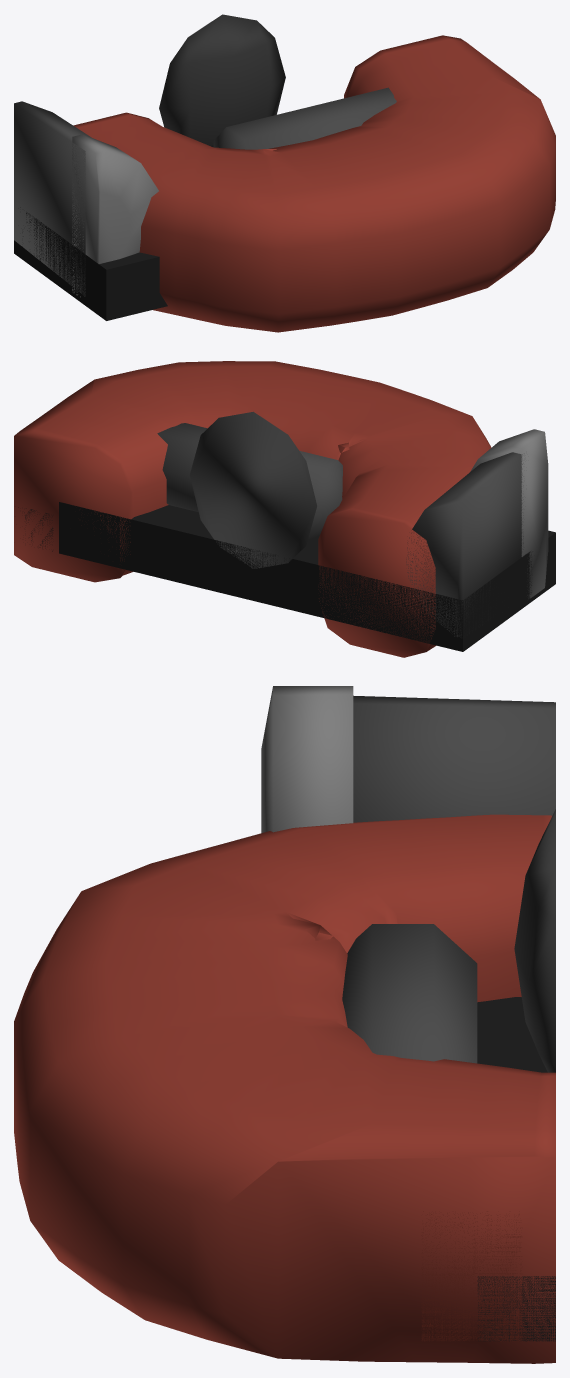
Rendered from newsht-45.glb.
3 renders of one model, top to bottom at view 1: azimuth 30°, elevation 25°; view 2: azimuth 150°, elevation 25°; view 3: azimuth 270°, elevation 25°, orthographic. The views are drawn at different scales.
Parts seen in each view (by area): view 1: newsht-45; view 2: newsht-45; view 3: newsht-45.
Boxes of the visible parts, box(x1,y1,x2,y2) form: newsht-45: box(14, 14, 555, 332); newsht-45: box(14, 361, 555, 657); newsht-45: box(14, 686, 555, 1363).
Bounding box in the file's own units: 2 × 0.8919 × 1.21.
